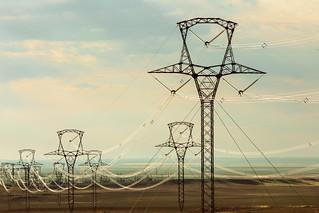power_tower: (149, 14, 266, 213), (156, 115, 197, 210), (48, 125, 90, 213), (14, 144, 43, 213)
